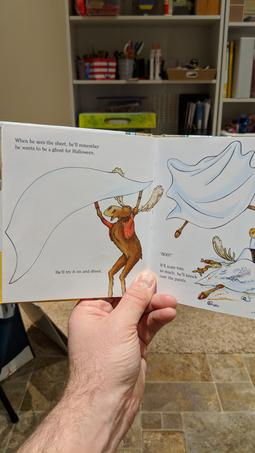text block: (8, 129, 113, 162), (150, 259, 204, 286), (47, 262, 105, 279), (150, 247, 181, 257)
